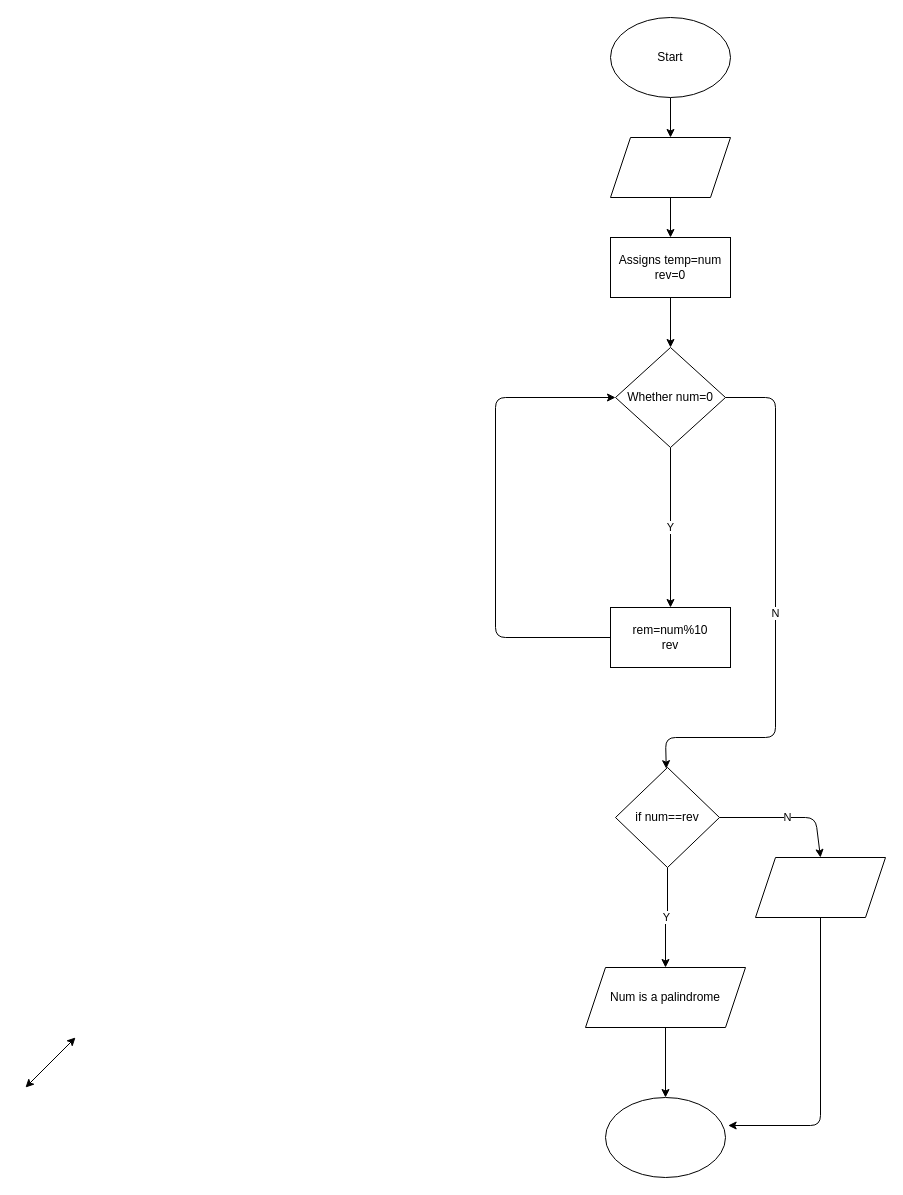
Some shapes in this 903 by 1195 pixel diagram are drawn without their labels. Each missing label, with the centre of its shape:
"Print num is not a palindrome" belongs at point 820,887.
"Read Num" belongs at point 670,167.
"Stop" belongs at point 665,1137.
